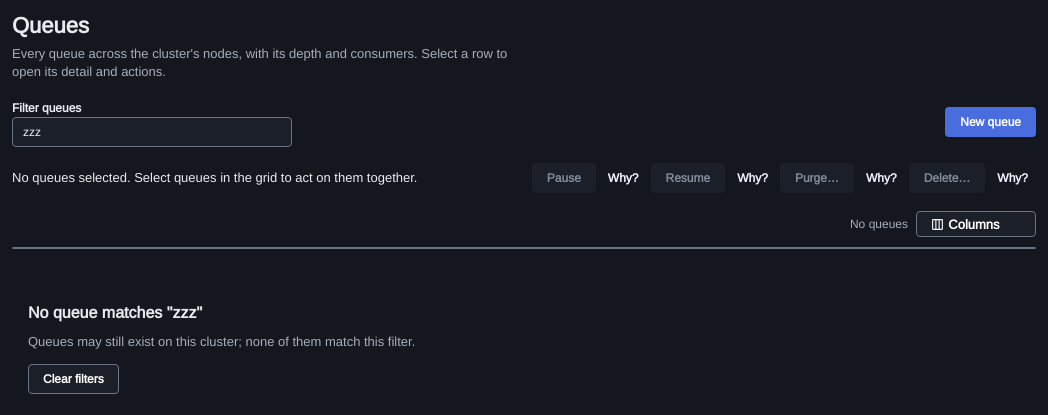
QueuesView empty grid › says the filter emptied it, and clears the filter from the address
This screenshot has width=1048, height=415.
Check: the text "No queue matches \"zzz\"" is shown, box left=28, top=301, right=202, bottom=325
Step 1. Click the button "Clear filters" → (73, 378), box left=28, top=364, right=119, bottom=394
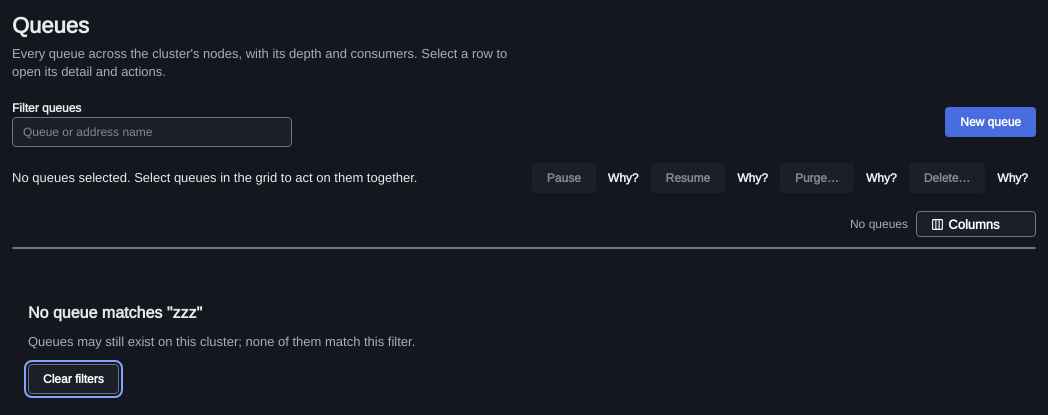
Check: the field labelled "Filter queues" is empty, box left=12, top=117, right=292, bottom=147
